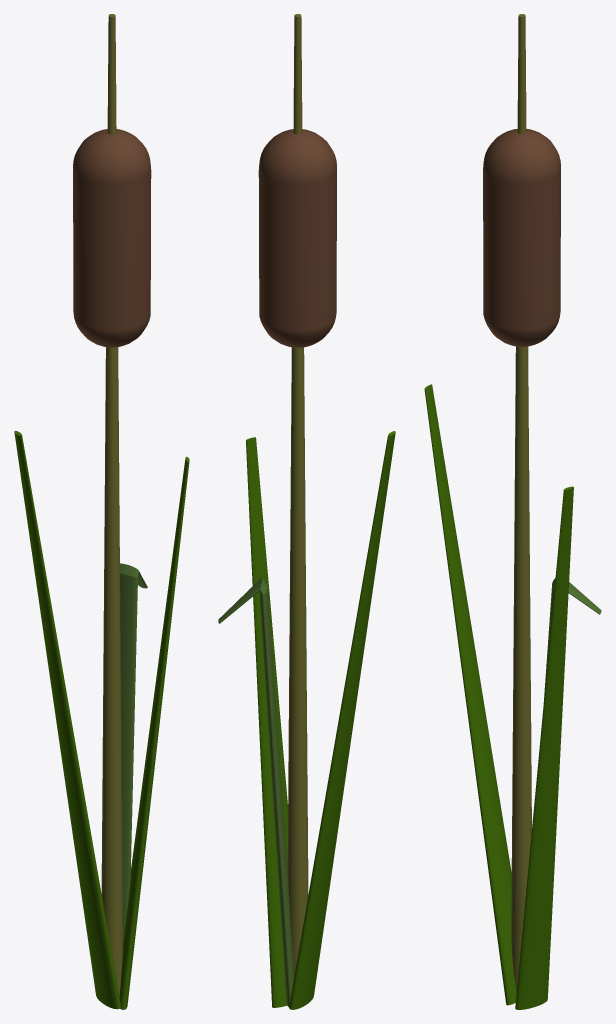
The model's file is CattailColored1.fbx.
3 renders of one model, left to right at view 1: azimuth 30°, elevation 25°; view 2: azimuth 150°, elevation 25°; view 3: azimuth 330°, elevation 25°, orthographic.
Visible parts, largest first — view 1: pCylinder10; view 2: pCylinder10; view 3: pCylinder10.
Part boxes in pixels (x1=…): pCylinder10: x1=14, y1=14, x2=189, y2=1009; pCylinder10: x1=218, y1=14, x2=395, y2=1009; pCylinder10: x1=424, y1=14, x2=601, y2=1009.
Bounding box in the file's own units: 4.69 × 27.76 × 2.31.
